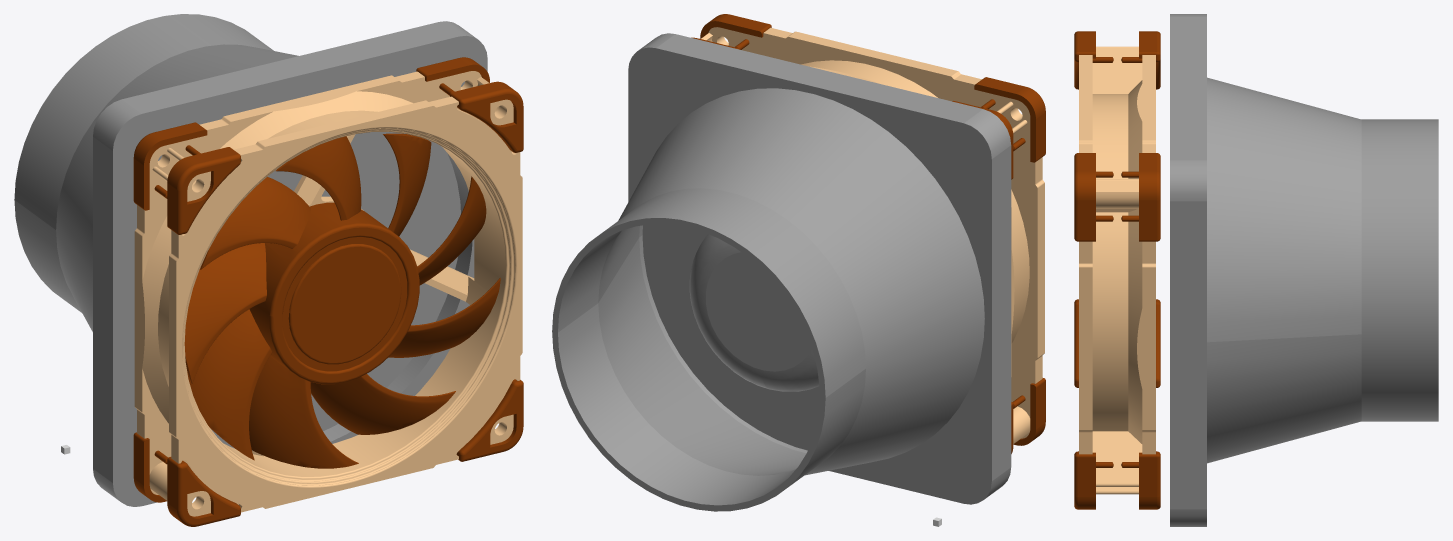
File: externalfanvent.glb
The picture shows the model from 3 angles, left to right: view 1: azimuth 30°, elevation 25°; view 2: azimuth 150°, elevation 25°; view 3: azimuth 270°, elevation 25°; orthographic projection. The views are drawn at different scales.
Parts seen in each view (by area): view 1: Body1, Body1.001, Vent_Adaptor, Baseplate, Cap, Body1.002, Body1.003, Body1.005, Body1.007, Body1.004, Body1.008, Body1.006; view 2: Vent_Adaptor, Cap, Body1, Baseplate, Body1.002, Body1.003, Body1.005; view 3: Vent_Adaptor, Body1, Baseplate, Body1.005, Body1.006, Body1.004, Body1.009, Body1.002, Body1.007, Cap, Body1.003, Body1.008.
Boxes of the visible parts, x1,y1,x2,y2 form: Body1: (134,71,522,516); Body1.001: (184,133,500,468); Vent_Adaptor: (14,14,465,492); Baseplate: (101,27,487,506); Cap: (125,22,460,447); Body1.002: (167,147,240,234); Body1.003: (167,457,240,526); Body1.005: (450,81,523,152); Body1.007: (133,122,207,210); Body1.004: (456,379,523,461); Body1.008: (133,432,168,502); Body1.006: (416,57,489,95); Vent_Adaptor: (552,41,999,511); Cap: (628,43,991,503); Body1: (701,27,1044,443); Baseplate: (646,33,1011,493); Body1.002: (974,77,1045,162); Body1.003: (1012,378,1045,445); Body1.005: (700,14,771,49); Vent_Adaptor: (1191,14,1438,526); Body1: (1079,46,1155,494); Baseplate: (1170,14,1191,526); Body1.005: (1074,153,1113,241); Body1.006: (1121,153,1160,241); Body1.004: (1074,451,1113,509); Body1.009: (1121,451,1160,509); Body1.002: (1074,31,1113,89); Body1.007: (1121,31,1160,89); Cap: (1191,17,1206,159); Body1.003: (1074,299,1078,387); Body1.008: (1156,299,1160,387).
Bounding box in the file's own units: 130 × 130 × 118.
